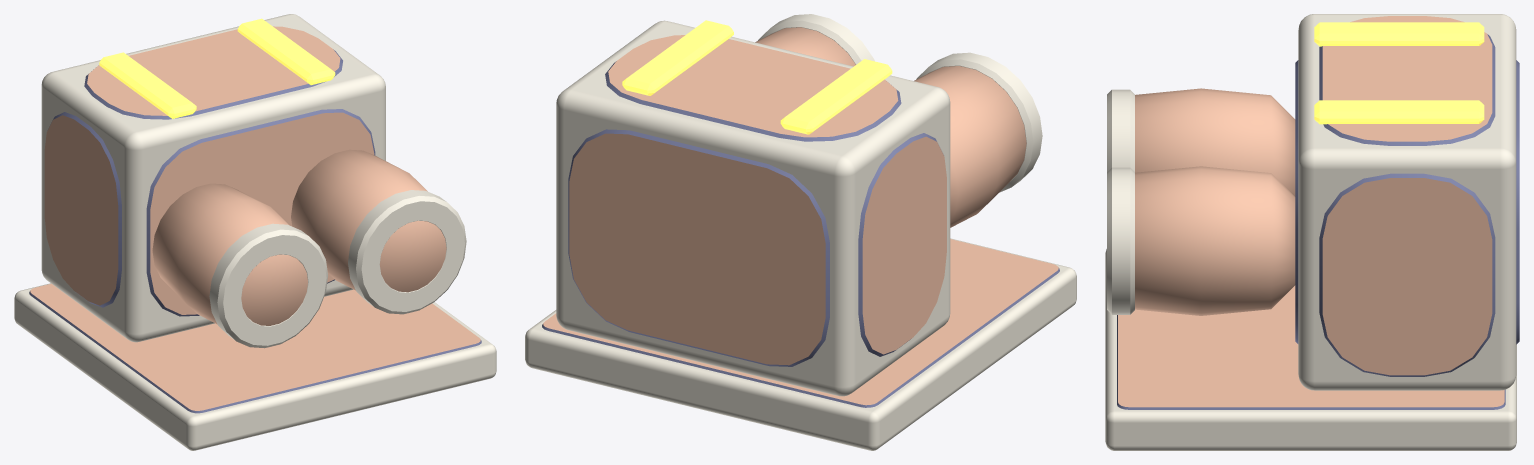
File: R4X_DoubleShotPassive.fbx
The picture shows the model from 3 angles, left to right: view 1: azimuth 30°, elevation 25°; view 2: azimuth 150°, elevation 25°; view 3: azimuth 270°, elevation 25°; orthographic projection. The views are drawn at different scales.
Visible parts, largest first — view 1: R4X_DoubleShotPassive_Body; view 2: R4X_DoubleShotPassive_Body; view 3: R4X_DoubleShotPassive_Body.
Boxes of the visible parts, x1,y1,x2,y2 form: R4X_DoubleShotPassive_Body: [14, 14, 496, 450]; R4X_DoubleShotPassive_Body: [525, 14, 1076, 450]; R4X_DoubleShotPassive_Body: [1105, 14, 1519, 450].
Size of the model in its own units: 0.514 by 0.4164 by 0.517.
